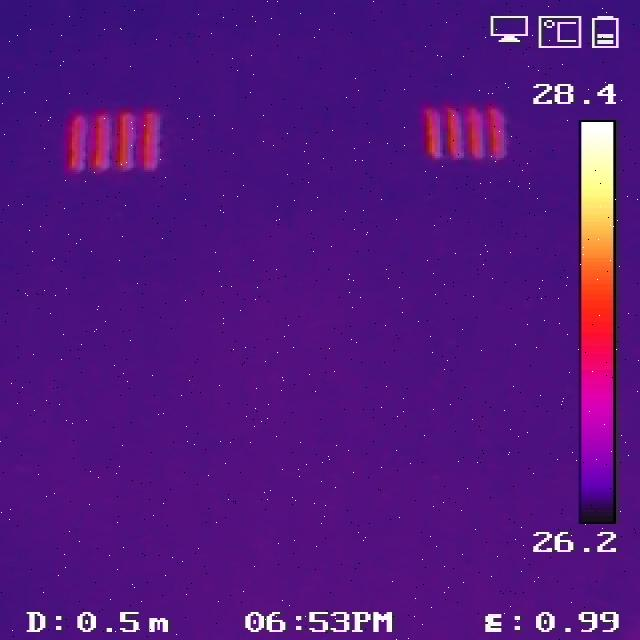Distinguishable 4-bar target: (64, 106, 165, 172), (422, 101, 509, 159)
